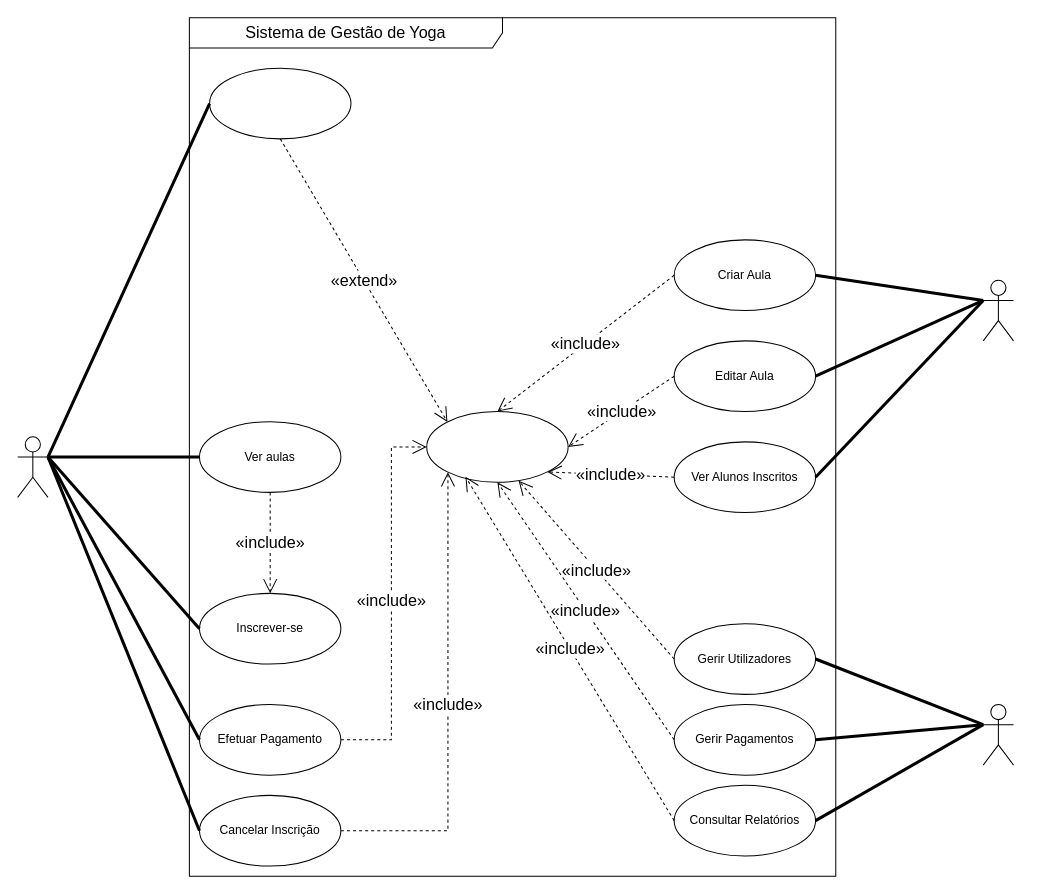
Some shapes in this 1038 by 894 pixel diagram are drawn without their labels. Here are the shapes that lost their labels. From the top down, the centre of each, then its label:
(x=280, y=103): Registrar-se
(x=998, y=310): Instrutor
(x=32, y=466): Aluno
(x=497, y=446): Login
(x=998, y=734): Admin
